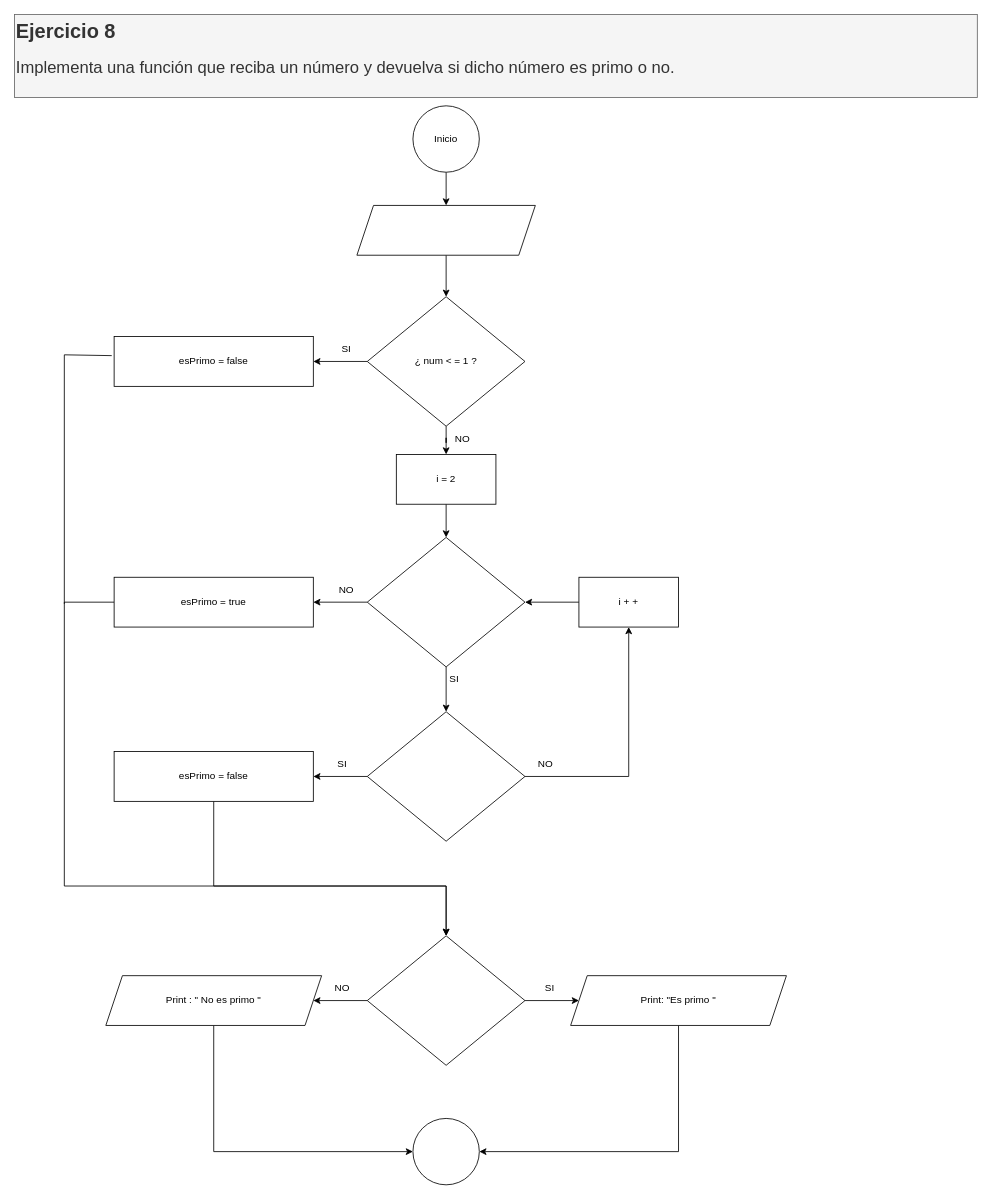
This 992x1199 diagram has some shape labels left out. Each missing label, with the centre of its shape:
"Fin" belongs at point 445,1151.
"Introducir número" belongs at point 445,230.
"num % ¡ = = 0 ?" belongs at point 445,776.
"¿ es primo = = true ?" belongs at point 445,1000.
"¿ i < num ?" belongs at point 445,602.
